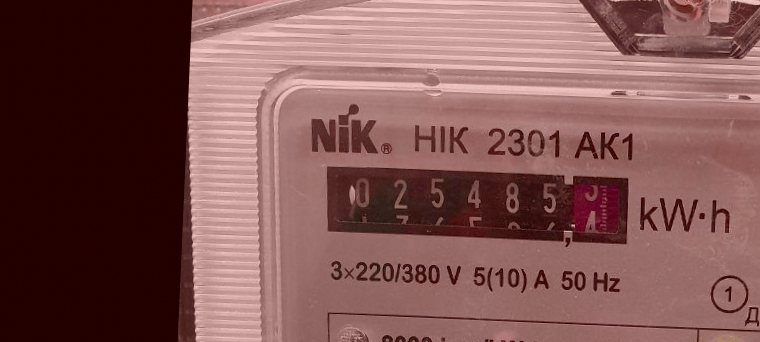0: (350, 174, 373, 210)
2: (389, 175, 411, 211)
4: (463, 176, 485, 210), (581, 207, 601, 236)
5: (537, 179, 560, 217), (426, 174, 447, 210)
8: (501, 177, 523, 216)
screen: (314, 156, 638, 256)
